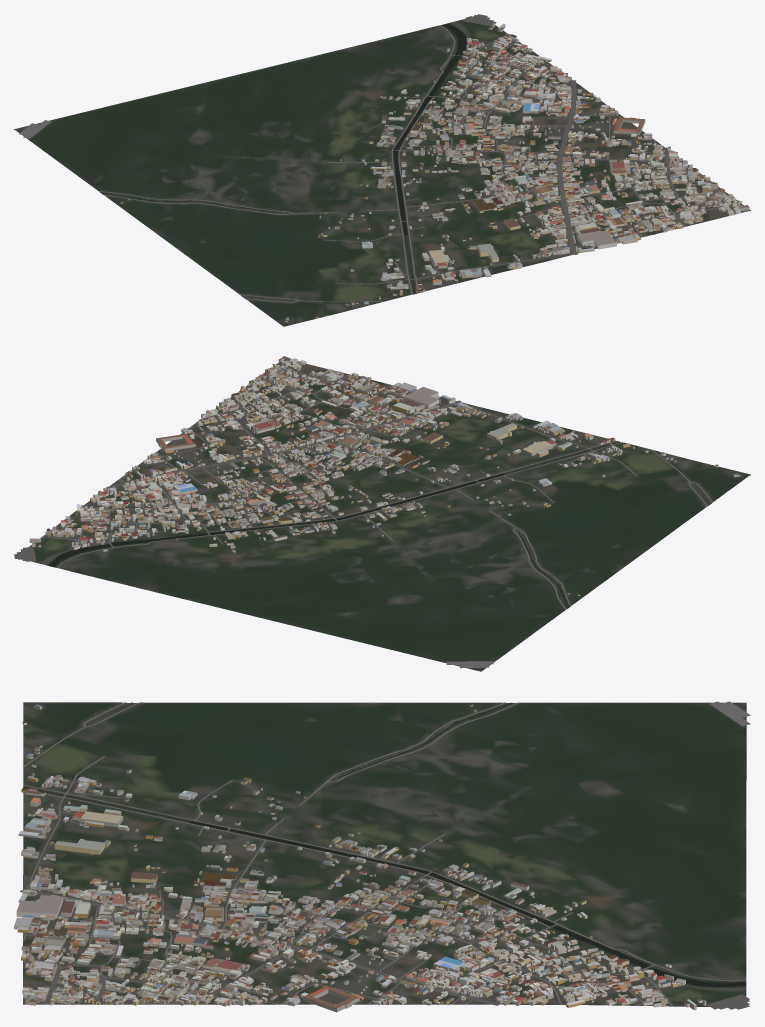
3 renders of one model, top to bottom at view 1: azimuth 30°, elevation 25°; view 2: azimuth 150°, elevation 25°; view 3: azimuth 270°, elevation 25°, orthographic. The views are drawn at different scales.
Parts seen in each view (by area): view 1: ground, buildings, roads, water; view 2: ground, buildings, roads, water; view 3: ground, buildings, roads, water.
Boxes of the visible parts, x1,y1,x2,y2 form: ground: (14,19,750,326); buildings: (120,23,749,322); roads: (19,14,742,302); water: (101,23,466,301); ground: (29,360,750,671); buildings: (29,356,740,595); roads: (14,364,712,668); water: (48,441,710,607); ground: (23,702,746,1006); buildings: (14,703,706,1012); roads: (20,701,750,1009); water: (23,702,745,987).
Size of the model in its own units: 1439 by 23.63 by 1427.
